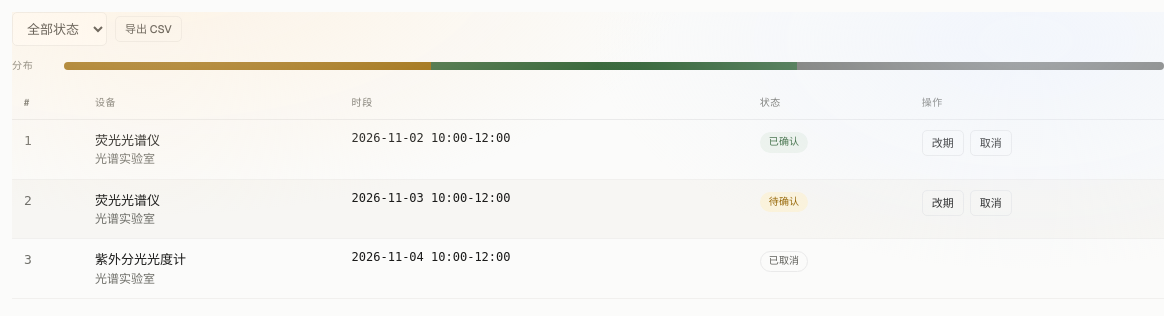
Scenario: ReservationsPane › 状态筛选不发新请求，只是把已经拿到的行过滤一遍
The image size is (1164, 316).
Select "待确认" in the dropdown showing "全部状态". click: x=60, y=29
box: x1=12 y1=12 x2=107 y2=46
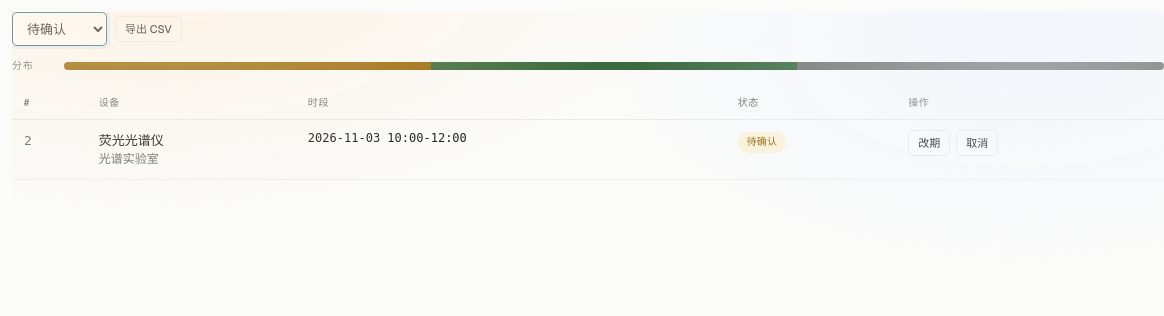
Check: the text "2026-11-03 10:00-12:00" is shown, box x1=296 y1=120 x2=726 y2=179
Check: the text "2026-11-02 10:00-12:00" is gone
